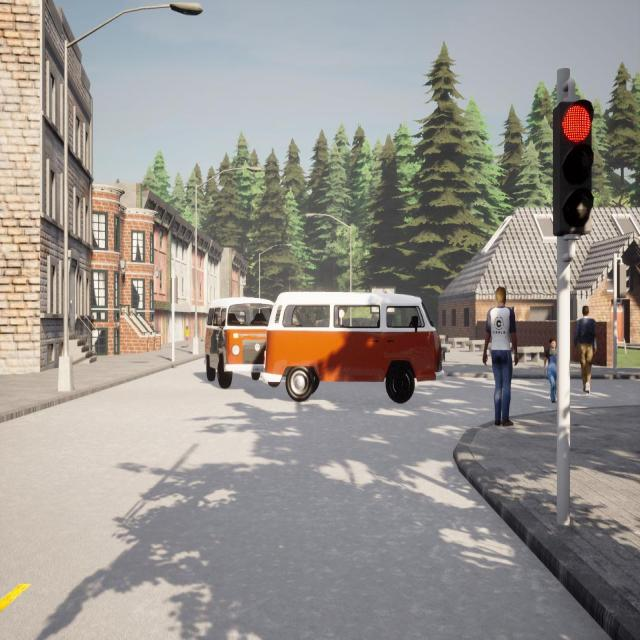Pedestrian: (480, 286, 520, 428), (572, 301, 600, 398), (540, 336, 561, 404), (183, 323, 190, 350)
Traffic_Signs: (338, 308, 345, 318)
Vehicle: (266, 293, 442, 403), (205, 296, 276, 391)
traffic_light: (553, 98, 593, 236), (617, 263, 630, 298), (170, 277, 178, 304)
